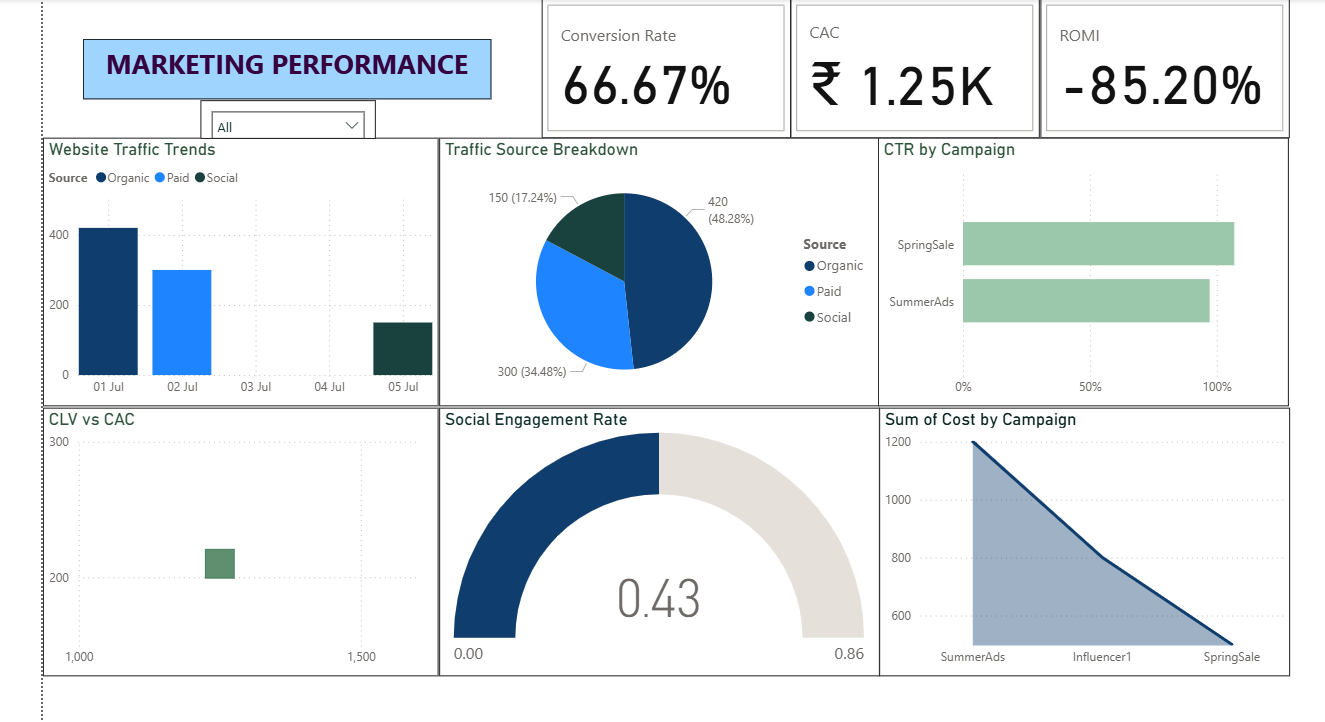

What the dashboard file says about the page in this screenshot:
{"tool":"powerbi","page":{"name":"Page 1","canvas":[1280,720],"ordinal":0},"visuals":[{"type":"cardVisual","fields":{"Data":["CampaignCosts.CAC"]},"box":[744.3,0,248.4,138.6],"z":0},{"type":"textbox","box":[39.8,39.8,406.2,60.4],"z":1000},{"type":"cardVisual","fields":{"Data":["CampaignCosts.ROMI"]},"box":[992.7,0,248.4,138.6],"z":2000},{"type":"cardVisual","fields":{"Data":["Leads.Conversion Rate"]},"box":[495.9,0,248.4,138.6],"z":3000},{"type":"columnChart","title":"Website Traffic Trends","fields":{"Category":["Leads.Date"],"Series":["WebsiteTraffic.Source"],"Y":["Sum(WebsiteTraffic.Sessions)"]},"box":[0,138.6,393.8,267.6],"z":4000},{"type":"pieChart","title":"Traffic Source Breakdown","fields":{"Category":["WebsiteTraffic.Source"],"Y":["Sum(WebsiteTraffic.Sessions)"]},"box":[393.8,138.6,437.7,267.6],"z":5000},{"type":"barChart","title":"CTR by Campaign","fields":{"Category":["AdClicks.Campaign"],"Y":["AdClicks.CTR"]},"box":[831.6,138.6,408.9,267.6],"z":5001},{"type":"scatterChart","title":"CLV vs CAC","fields":{"X":["CampaignCosts.CAC"],"Y":["Customers.Avg CLV"],"Size":["Leads.Total Conversions"]},"box":[0,406.2,393.8,267.6],"z":5002},{"type":"gauge","title":"Social Engagement Rate","fields":{"Y":["SocialMetrics.Engagement Rate"]},"box":[394,407,438,267],"z":5003},{"type":"slicer","fields":{"Values":["Leads.Date.Variation.Date Hierarchy.Month","WebsiteTraffic.Source","Leads.Campaign"]},"box":[156.4,100.2,174.3,38.4],"z":5004},{"type":"areaChart","fields":{"Category":["CampaignCosts.Campaign"],"Y":["Sum(CampaignCosts.Cost)"]},"box":[832,407,409,267],"z":5005}]}

Visuals, with their boxes in screenshot pixels (x1, y1, x2, y2):
cardVisual - CampaignCosts.CAC: <box>787,0,1032,137</box>
textbox: <box>91,39,492,99</box>
cardVisual - CampaignCosts.ROMI: <box>1032,0,1278,137</box>
cardVisual - Leads.Conversion Rate: <box>542,0,787,137</box>
"Website Traffic Trends" columnChart: <box>52,137,441,401</box>
"Traffic Source Breakdown" pieChart: <box>441,137,873,401</box>
"CTR by Campaign" barChart: <box>873,137,1277,401</box>
"CLV vs CAC" scatterChart: <box>52,401,441,666</box>
"Social Engagement Rate" gauge: <box>441,402,874,666</box>
slicer - Leads.Date.Variation.Date Hierarchy.Month x WebsiteTraffic.Source: <box>206,99,378,137</box>
areaChart - CampaignCosts.Campaign x Sum(CampaignCosts.Cost): <box>874,402,1278,666</box>
